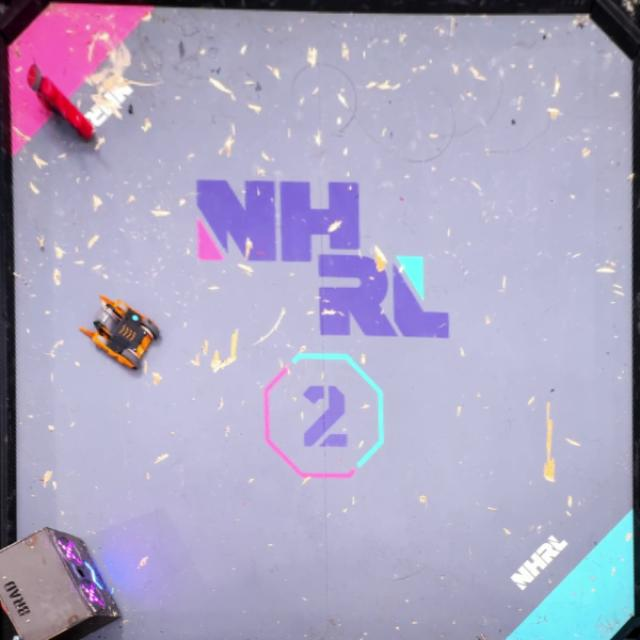housebot: (0, 526, 122, 640)
robot: (77, 294, 160, 370), (28, 64, 94, 140)
